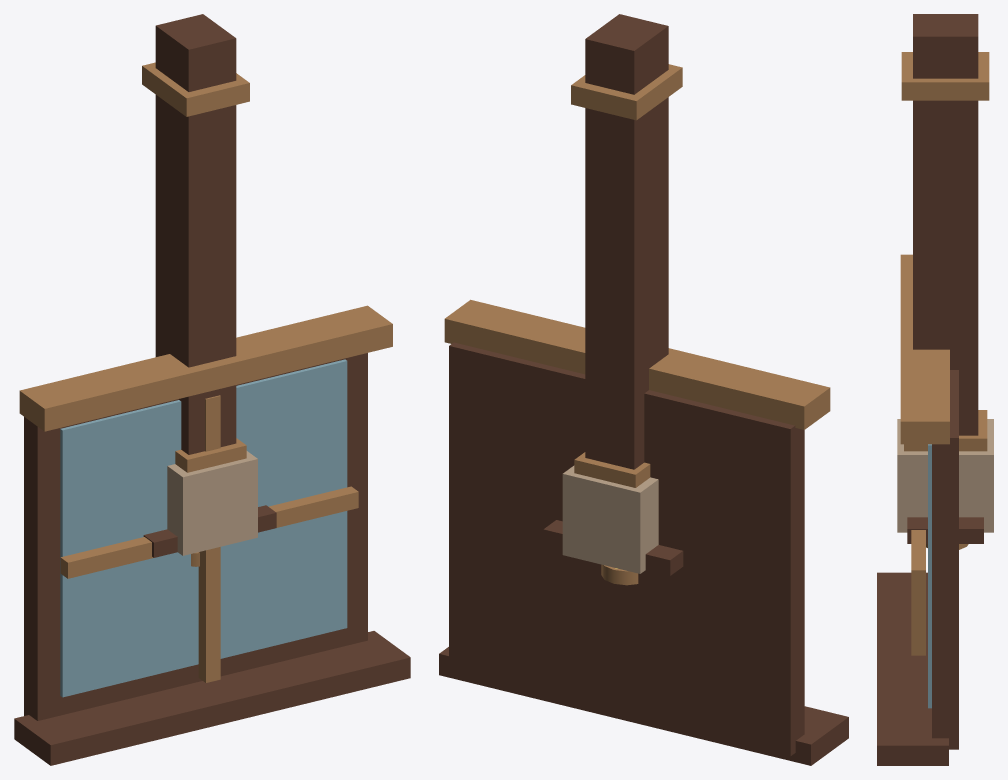
Rendered from architecture.glb.
The picture shows the model from 3 angles, left to right: view 1: azimuth 30°, elevation 25°; view 2: azimuth 150°, elevation 25°; view 3: azimuth 270°, elevation 25°; orthographic projection. The views are drawn at different scales.
Parts seen in each view (by area): view 1: window, post, counter-sign; view 2: window, post, counter-sign; view 3: post, window, counter-sign.
Part boxes in pixels (x1,y1,x2,y2): window: (14,305,410,765); post: (142,14,257,555); counter-sign: (143,505,276,557); window: (439,299,848,765); post: (562,14,682,573); counter-sign: (543,520,683,575); post: (897,14,993,532); window: (877,254,958,765); counter-sign: (907,517,983,543).
Bounding box in the file's own units: 1.82 × 3.21 × 0.52.
